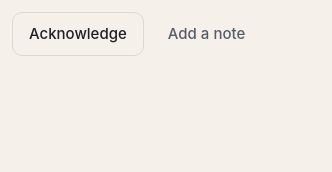
single tap and rapid second tap send one request; readback replaces control
Step 1. Click the button "Acknowledge" → (78, 34), box [12, 12, 144, 56]
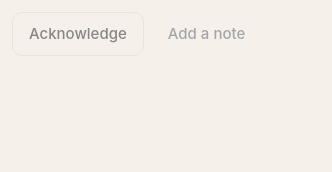
Step 2. Click the button "Acknowledge" → (78, 34), box [12, 12, 144, 56]
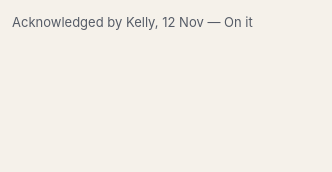
Result: the text "Acknowledged by Kelly, 12 Nov — On it" is shown at [12, 14, 253, 30]
